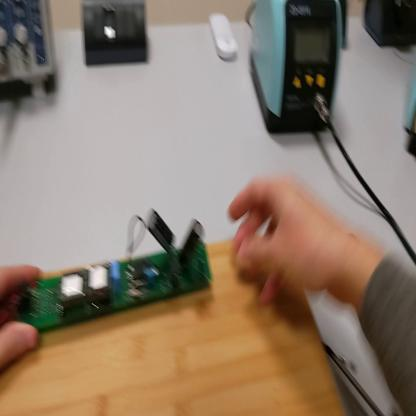hand: (230, 174, 353, 306), (2, 266, 46, 367)
high voltage board: (2, 208, 223, 345)
oscilloscope: (2, 2, 57, 105)
screwdriver-: (322, 339, 385, 416)
socket: (366, 3, 416, 52), (341, 3, 350, 47)
welder base: (402, 72, 416, 153)
welder station: (249, 1, 345, 141)
working area: (2, 238, 346, 416)
